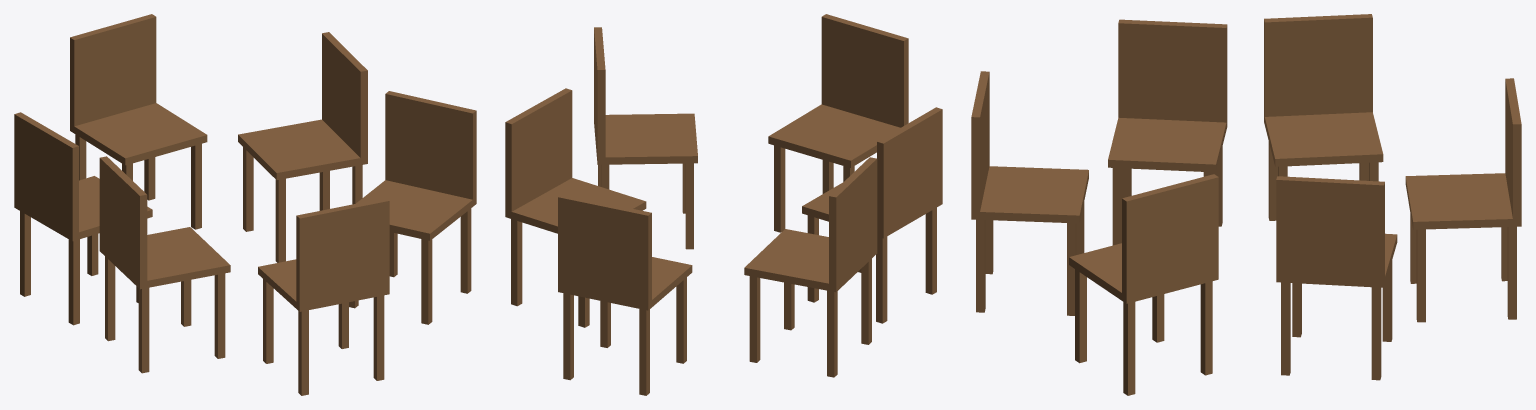
The model's file is dining-chairs.glb.
3 views of the same model, side by side, from view 1: azimuth 30°, elevation 25°; view 2: azimuth 150°, elevation 25°; view 3: azimuth 270°, elevation 25° (orthographic). The views are drawn at different scales.
Visible parts, largest first — view 1: dining-chairs; view 2: dining-chairs; view 3: dining-chairs.
Boxes of the visible parts, <box> form: dining-chairs: <box>14,14,476,395</box>; dining-chairs: <box>505,14,942,395</box>; dining-chairs: <box>971,14,1521,395</box>.
Bounding box in the file's own units: 6.12 × 3 × 7.59.
